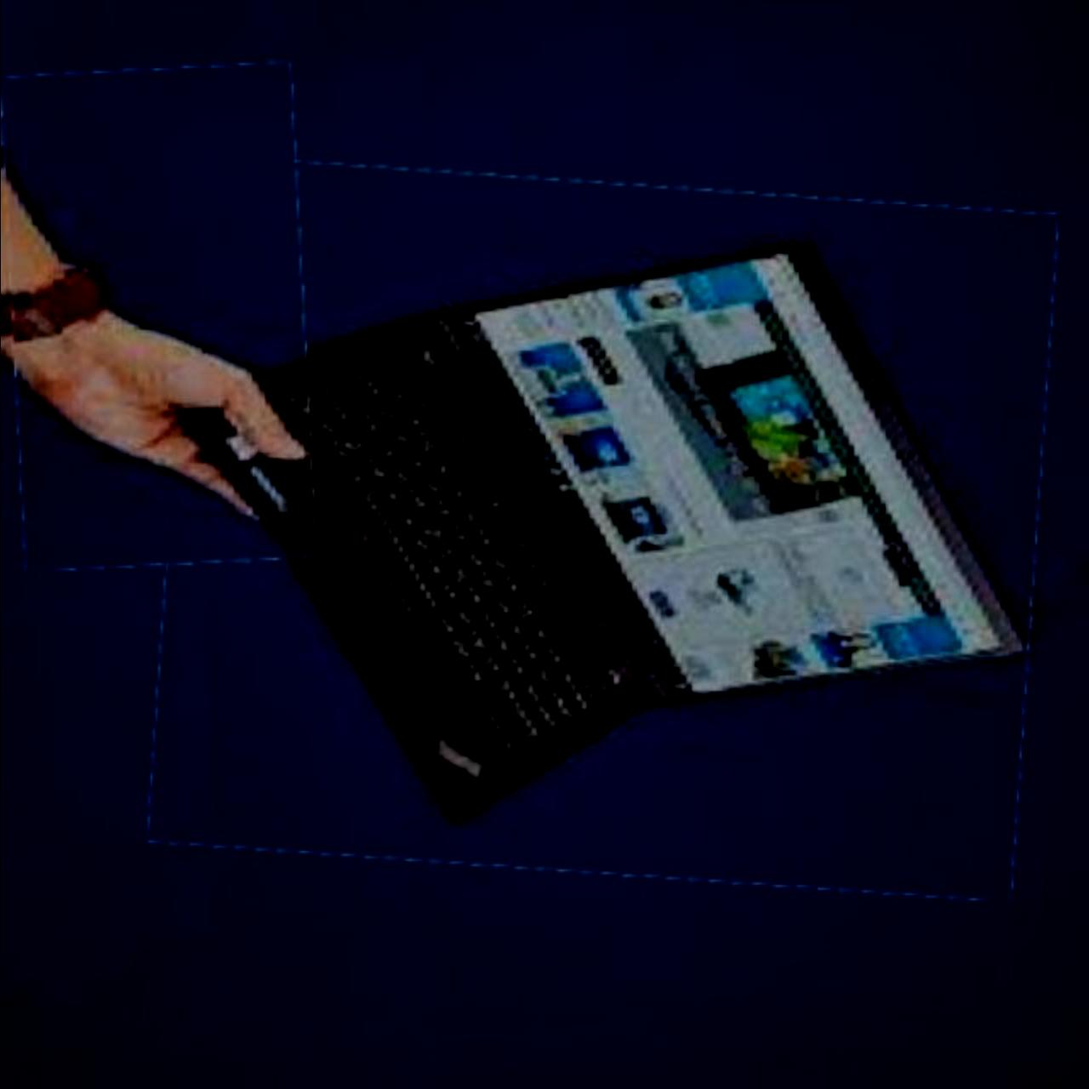laptop: (159, 169, 1046, 886)
